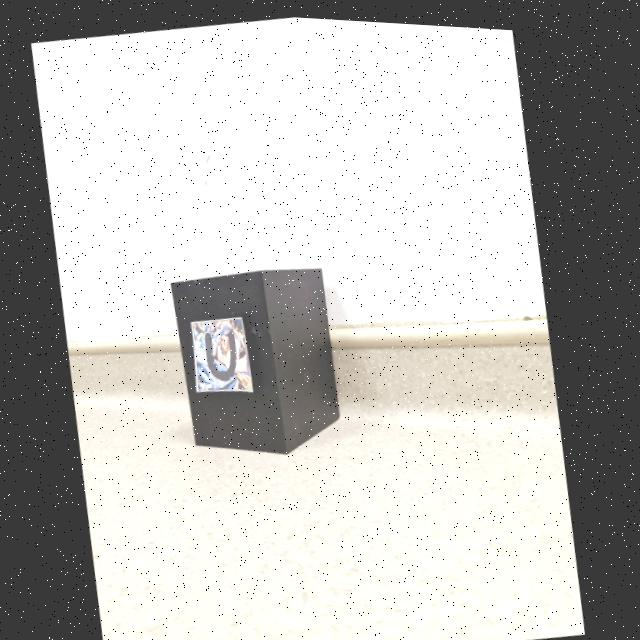U: (208, 329, 240, 377)
